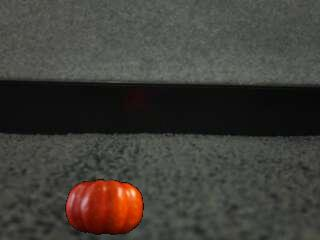Pumpkin: (64, 178, 143, 236)
